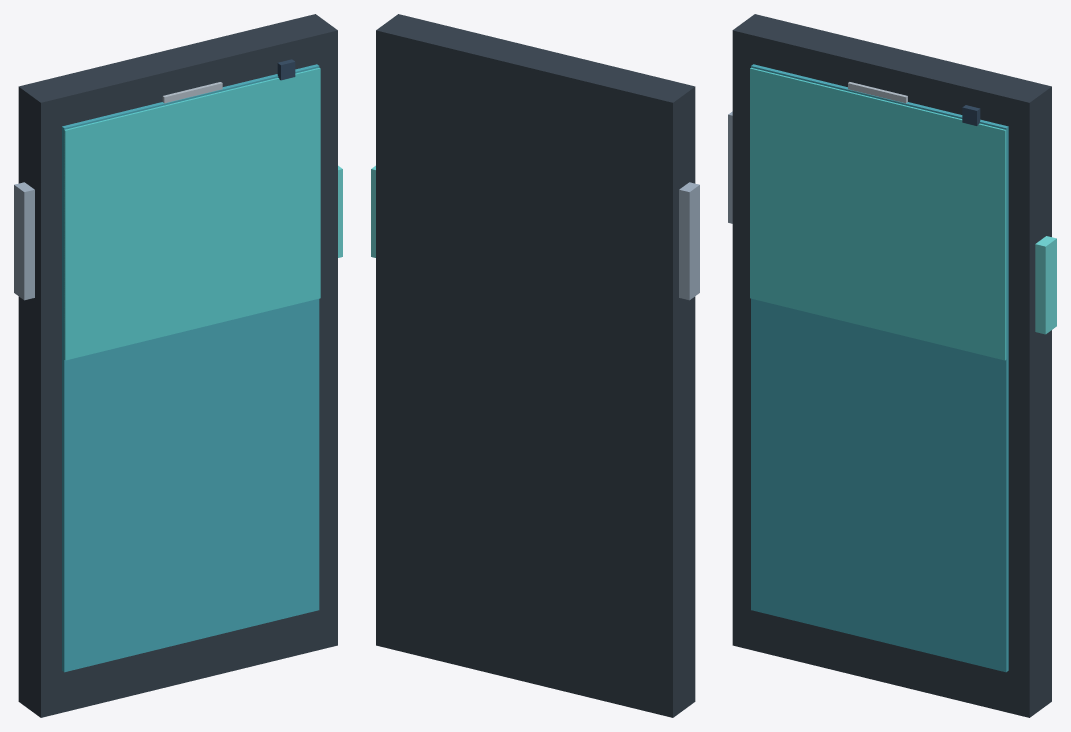
The model's file is Demo-Phone-Asset.glb.
The picture shows the model from 3 angles, left to right: view 1: azimuth 30°, elevation 25°; view 2: azimuth 150°, elevation 25°; view 3: azimuth 330°, elevation 25°; orthographic projection.
Visible parts, largest first — view 1: Phone Screen, Phone Frame, Screen Highlight, Volume Button; view 2: Phone Frame, Volume Button; view 3: Phone Screen, Phone Frame, Screen Highlight, Power Button, Volume Button.
Boxes of the visible parts, bbox=[...] form: Phone Screen: bbox=[62, 64, 319, 672]; Phone Frame: bbox=[18, 14, 337, 717]; Screen Highlight: bbox=[64, 67, 320, 360]; Volume Button: bbox=[14, 182, 34, 300]; Phone Frame: bbox=[376, 14, 695, 717]; Volume Button: bbox=[679, 182, 699, 300]; Phone Screen: bbox=[751, 64, 1008, 672]; Phone Frame: bbox=[732, 14, 1051, 717]; Screen Highlight: bbox=[750, 67, 1006, 360]; Power Button: bbox=[1035, 236, 1056, 334]; Volume Button: bbox=[728, 111, 732, 223].
Bounding box in the file's own units: 0.985 × 1.82 × 0.147.
